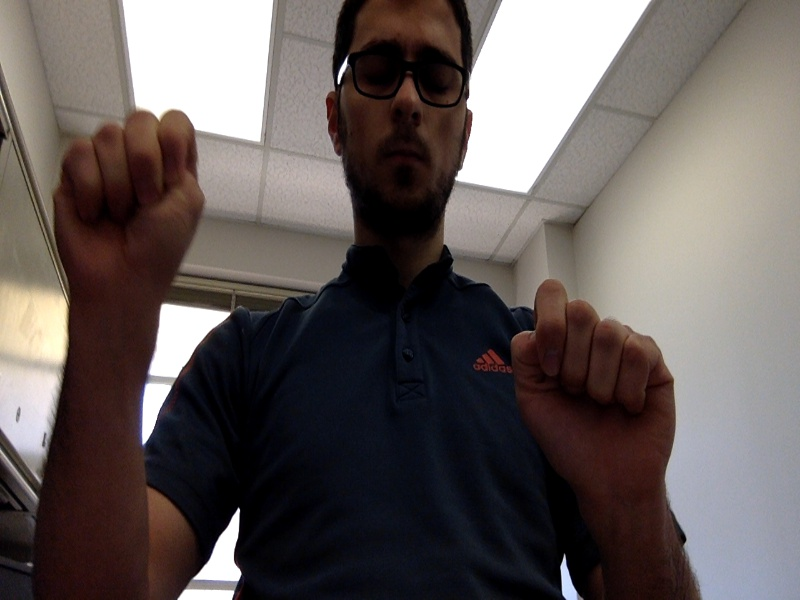0-hand: (509, 279, 678, 502), (55, 109, 204, 308)
